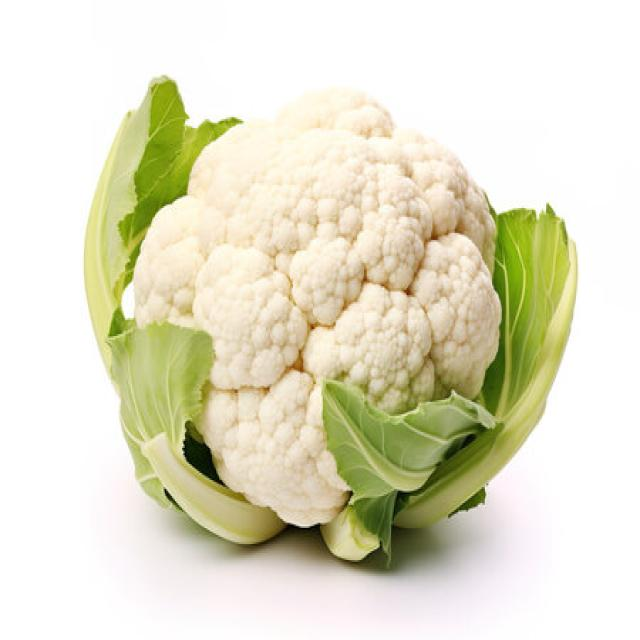Cauliflower: (128, 84, 502, 532)
